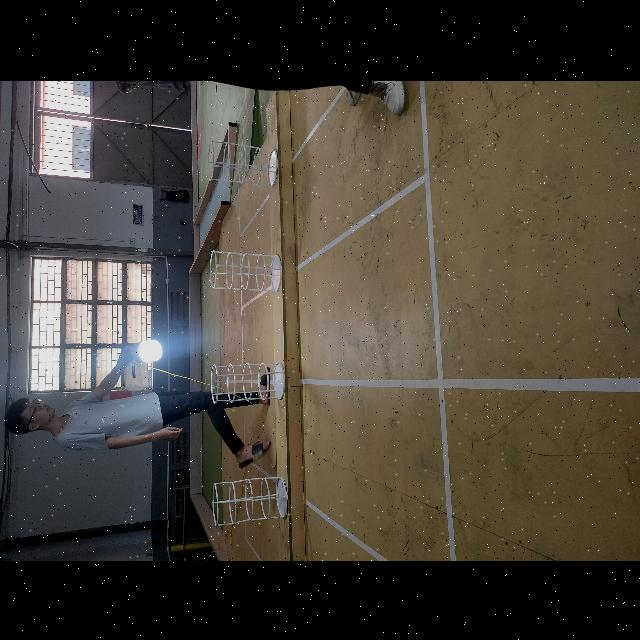S: (210, 472, 290, 528), (205, 138, 281, 187), (207, 360, 288, 405), (207, 248, 284, 291)
